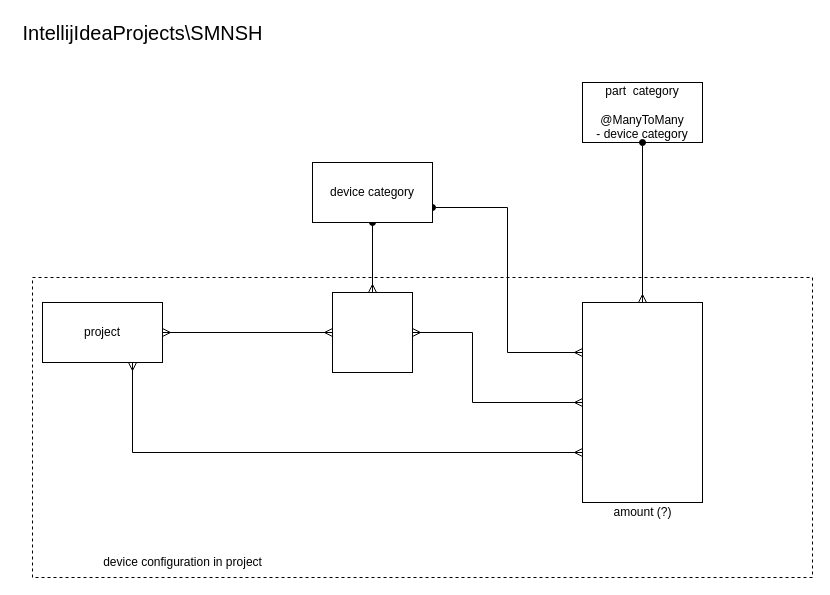
This 830x595 diagram has some shape labels left out. The box of each missing label's shape, as (x1, y1, x2, y2) in pixels:
device: (332, 292, 412, 372)
part @ManyToMany - device category @ManyToMany - device @ManyToMany - project: (582, 302, 702, 502)
